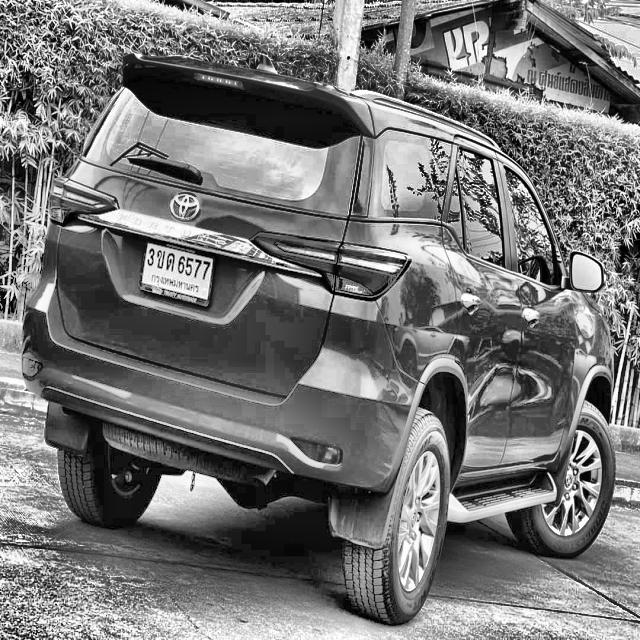license-plate: (138, 236, 220, 314)
